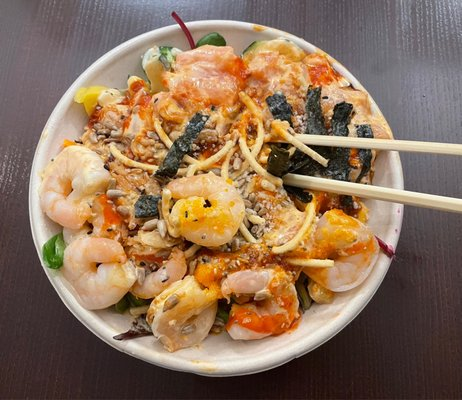sushi: (27, 18, 444, 367)
